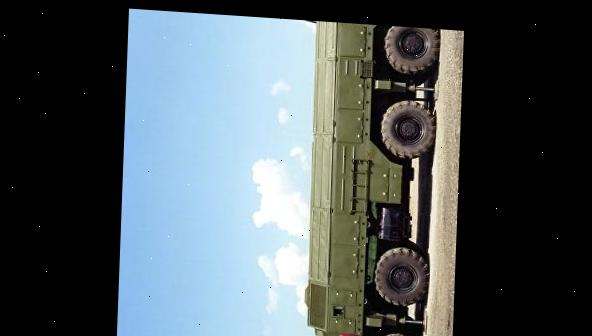rszo: (293, 20, 457, 336)
